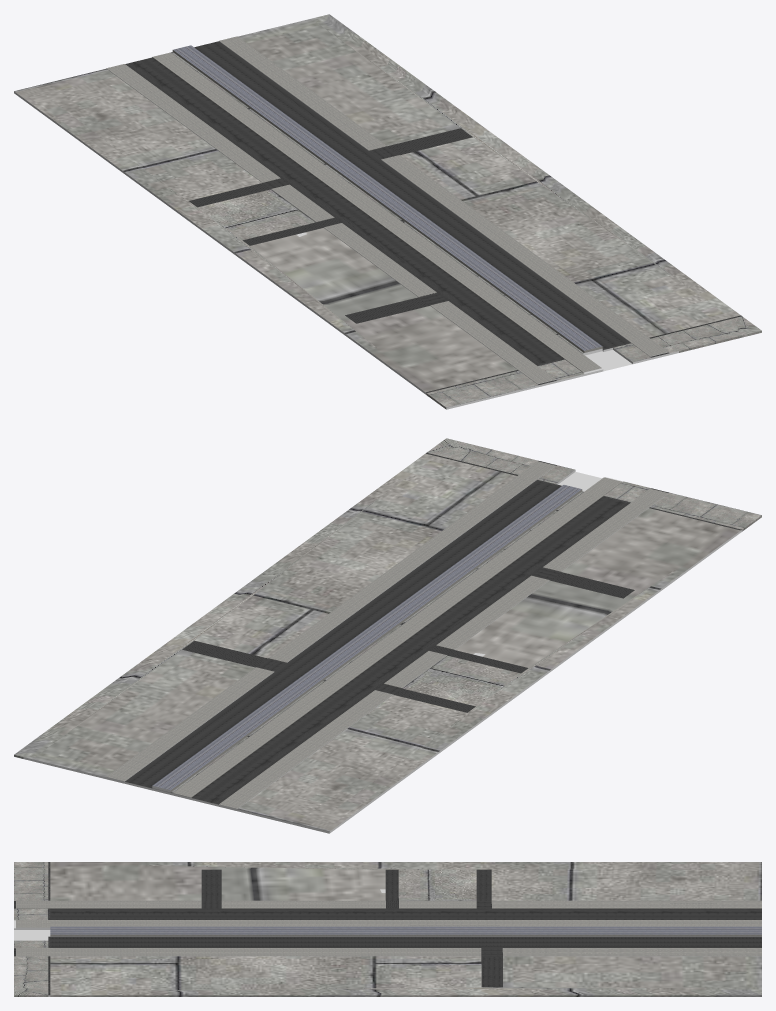
Rendered from ground.gltf.
The picture shows the model from 3 angles, top to bottom: view 1: azimuth 30°, elevation 25°; view 2: azimuth 150°, elevation 25°; view 3: azimuth 270°, elevation 25°; orthographic projection. The views are drawn at different scales.
Visible parts, largest first — view 1: Cube; view 2: Cube; view 3: Cube.
Boxes of the visible parts, left/top/right/bottom form: Cube: left=14, top=14, right=761, bottom=409; Cube: left=14, top=438, right=761, bottom=833; Cube: left=14, top=862, right=761, bottom=996.
Bounding box in the file's own units: 322 × 4.59 × 764.
5 materials, 4 textured.
